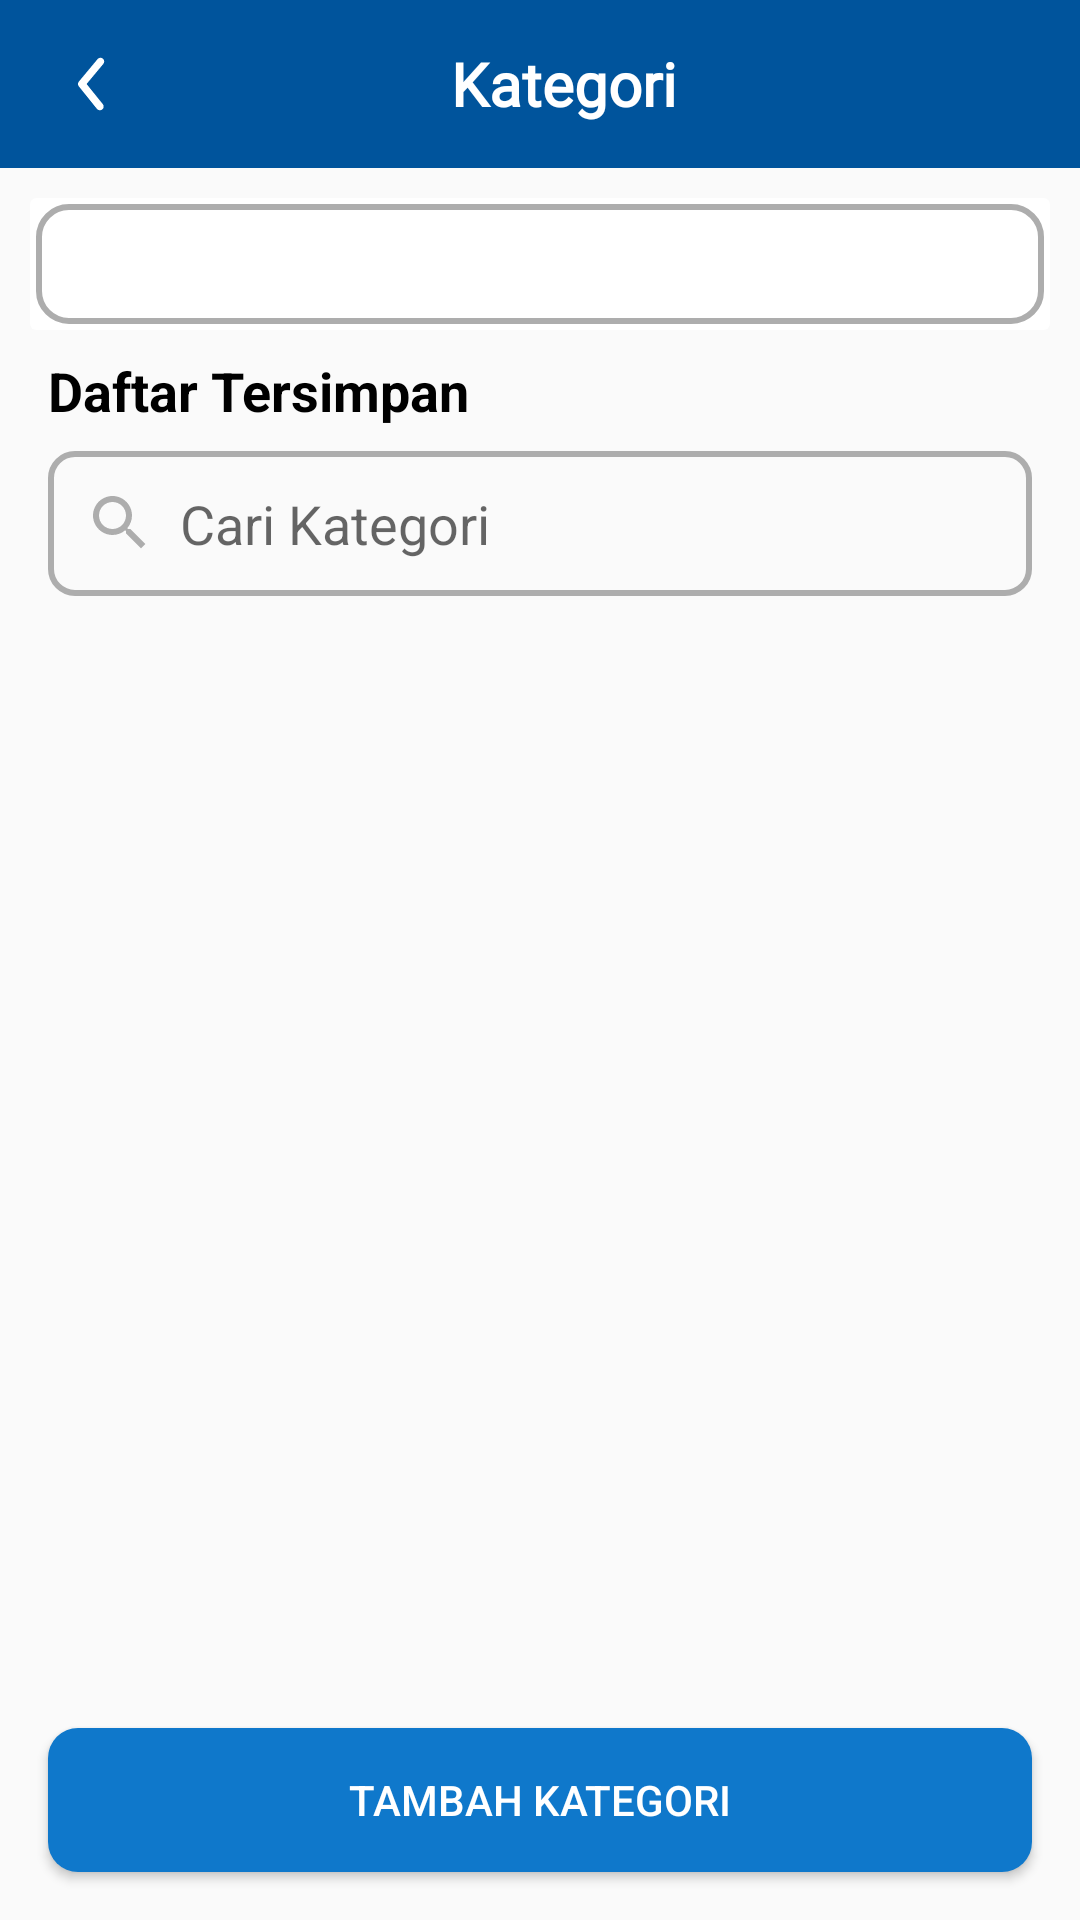

Icons on this 1080*1920 Android screen, each with the point to tap as point (x, y):
back arrow: point (91, 84)
